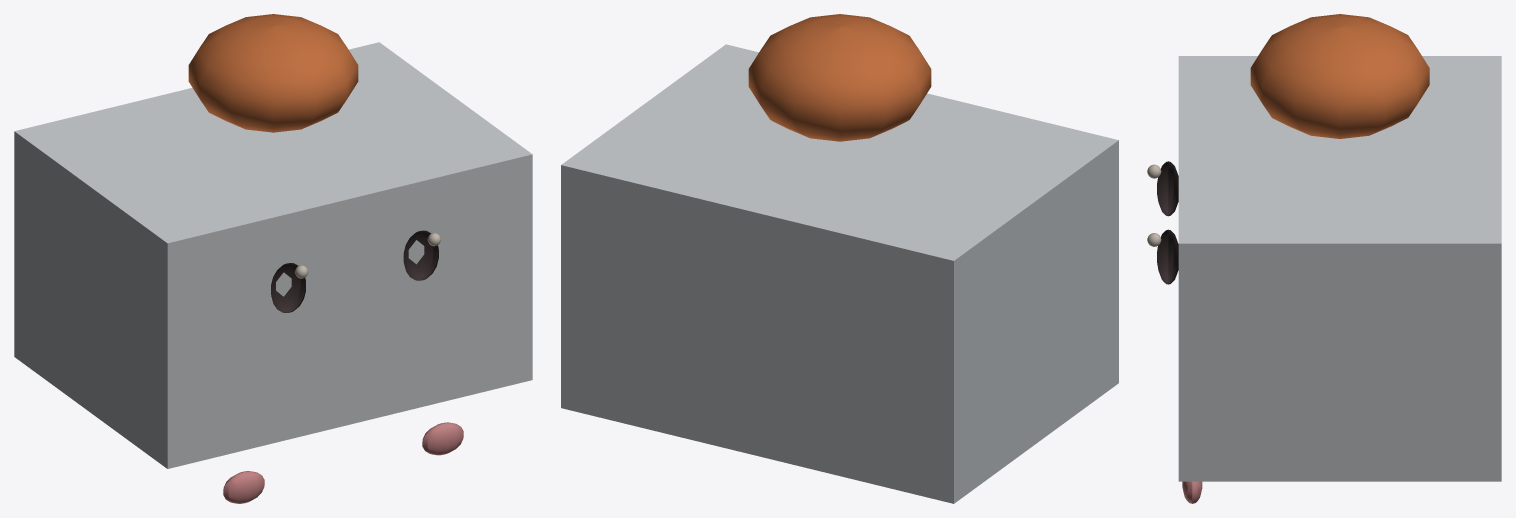
The picture shows the model from 3 angles, left to right: view 1: azimuth 30°, elevation 25°; view 2: azimuth 150°, elevation 25°; view 3: azimuth 270°, elevation 25°; orthographic projection. The views are drawn at different scales.
Parts seen in each view (by area): view 1: pet_pb46188b6; view 2: pet_pb46188b6; view 3: pet_pb46188b6.
Boxes of the visible parts, x1,y1,x2,y2 form: pet_pb46188b6: [14, 14, 532, 503]; pet_pb46188b6: [561, 14, 1118, 503]; pet_pb46188b6: [1147, 14, 1501, 503].
Bounding box in the file's own units: 0.44 × 0.4616 × 0.3509.
